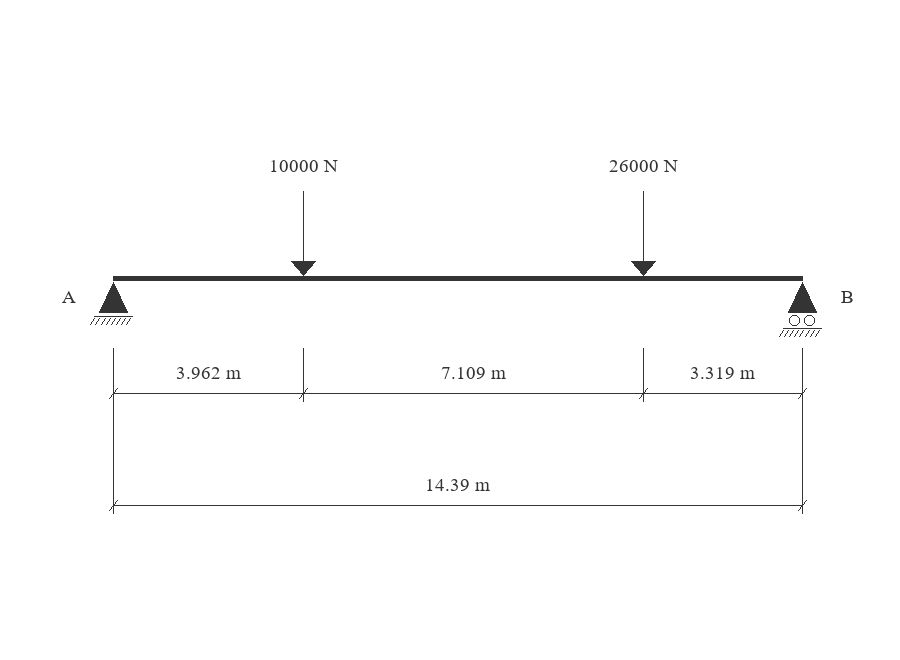pin_support: (90, 282, 133, 325)
point_load: (291, 191, 316, 276), (631, 191, 656, 276)
roller_support: (779, 282, 822, 337)
